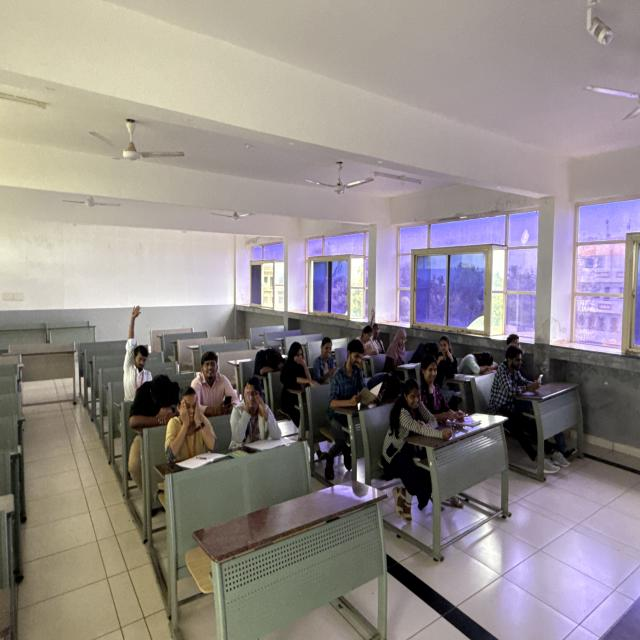Hand Rising: (117, 296, 164, 400), (370, 303, 390, 354)
Reading: (327, 332, 385, 430), (393, 323, 421, 382)
Sleeping: (123, 358, 184, 442), (247, 337, 292, 396), (452, 336, 497, 386)
Using Phone: (194, 328, 239, 426), (491, 348, 547, 421)
